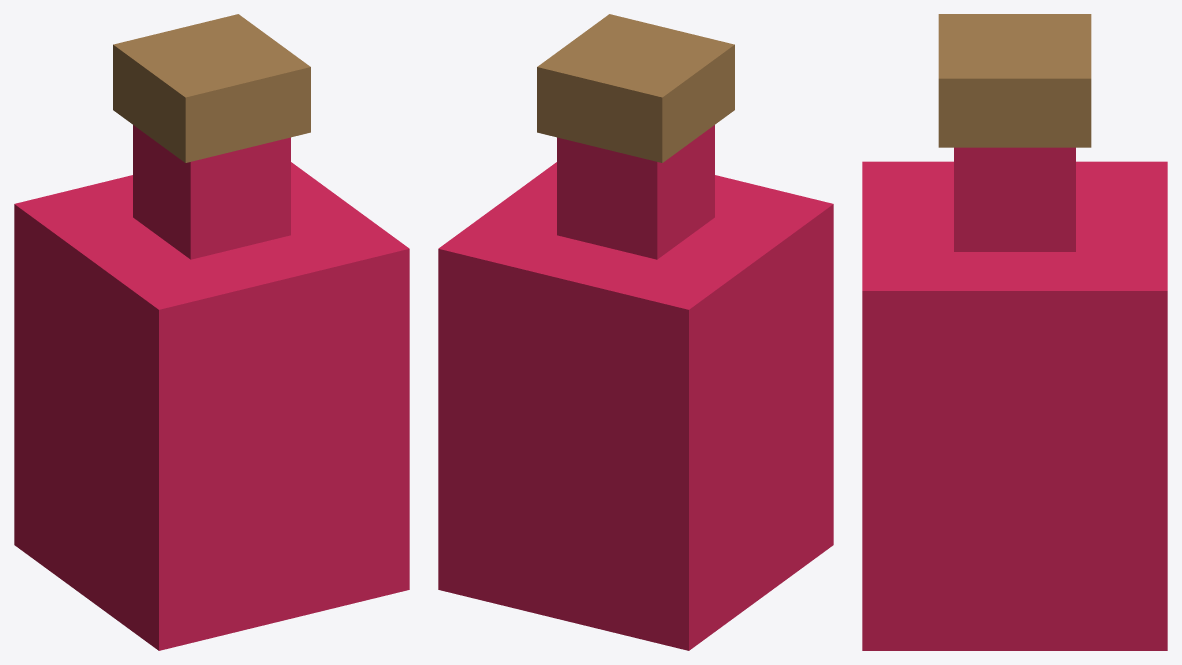
Rendered from pickup_frenzy.glb.
3 views of the same model, side by side, from view 1: azimuth 30°, elevation 25°; view 2: azimuth 150°, elevation 25°; view 3: azimuth 270°, elevation 25° (orthographic). The views are drawn at different scales.
Visible parts, largest first — view 1: pickup_frenzy; view 2: pickup_frenzy; view 3: pickup_frenzy.
Part boxes in pixels (x1,y1,x2,y2): pickup_frenzy: (14, 14, 409, 650); pickup_frenzy: (438, 14, 833, 650); pickup_frenzy: (862, 14, 1167, 650).
Bounding box in the file's own units: 0.2 × 0.39 × 0.2.
1 material, 1 textured.
